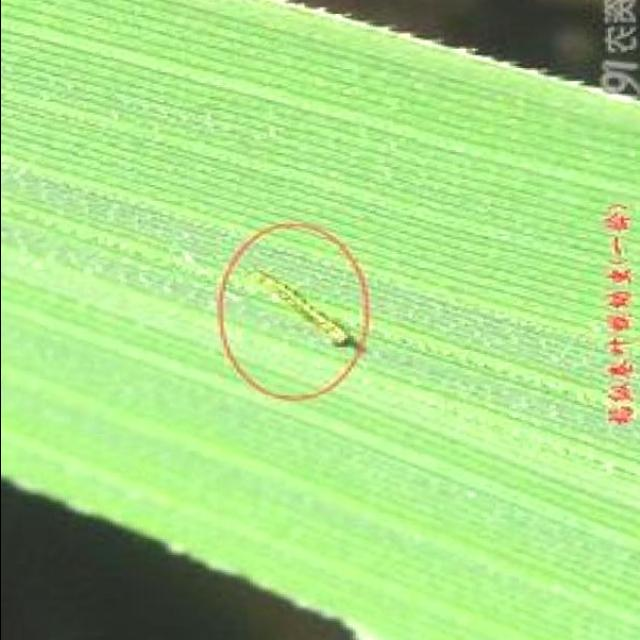leaf folder: (245, 271, 354, 349)
